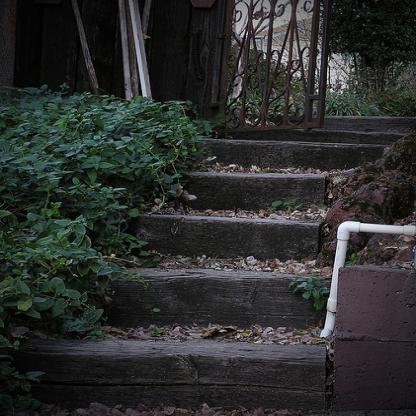stairs: (131, 204, 311, 411)
